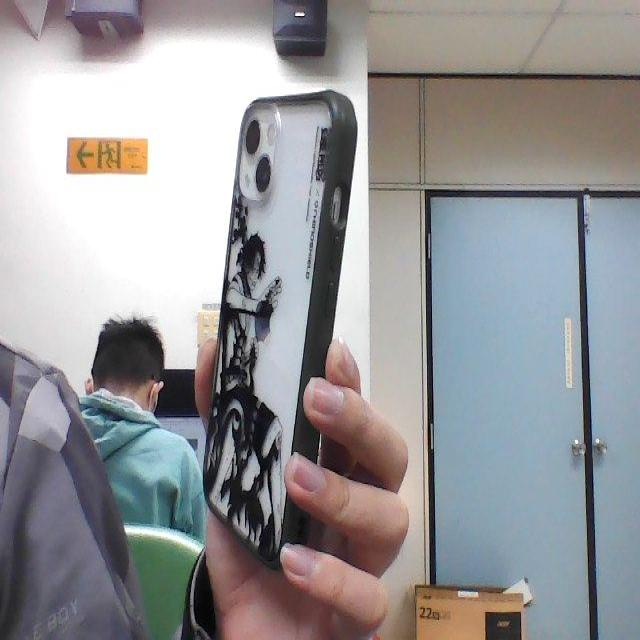Smartphone: (196, 77, 367, 593)
